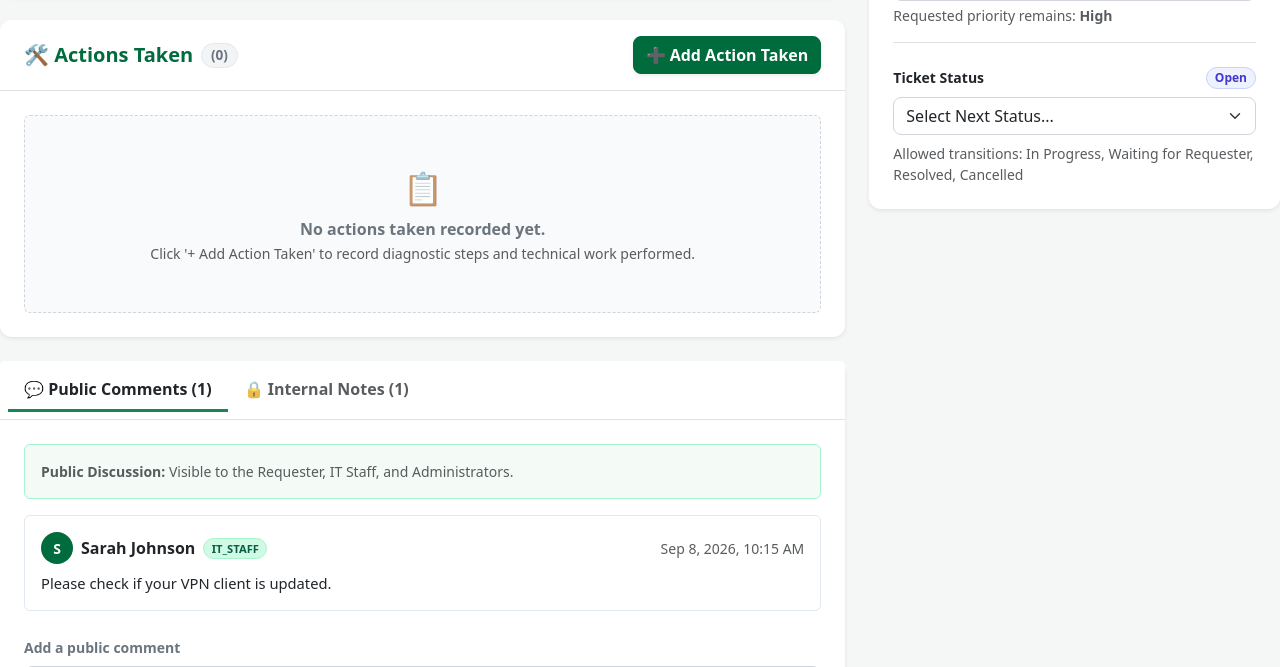
UI-04: Staff Ticket Detail & Operations Component Tests › UI-04: switches between Public Comments and Internal Notes with safety warning styling
(page scrolled)
Expected: the text "Please check if your VPN client is updated." is shown, [41,573,332,593]
Switch to Internal Notes tab
Click the tab "🔒 Internal Notes (1)" at (326, 389), box [228,369,425,409]
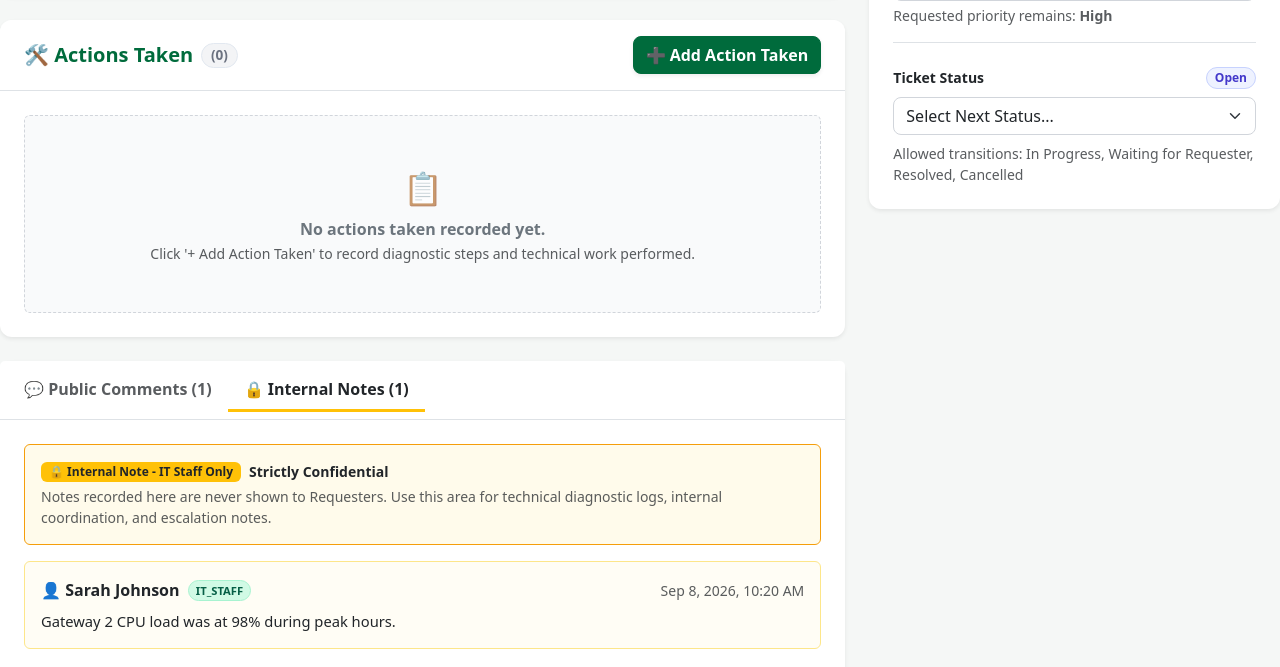
Now the text "🔒 Internal Note - IT Staff Only" is shown, box [41,462,241,482]
Now the text "Strictly Confidential" is shown, box [249,461,389,482]
Now the text "Gateway 2 CPU load was at 98% during peak hours." is shown, box [41,611,396,631]
